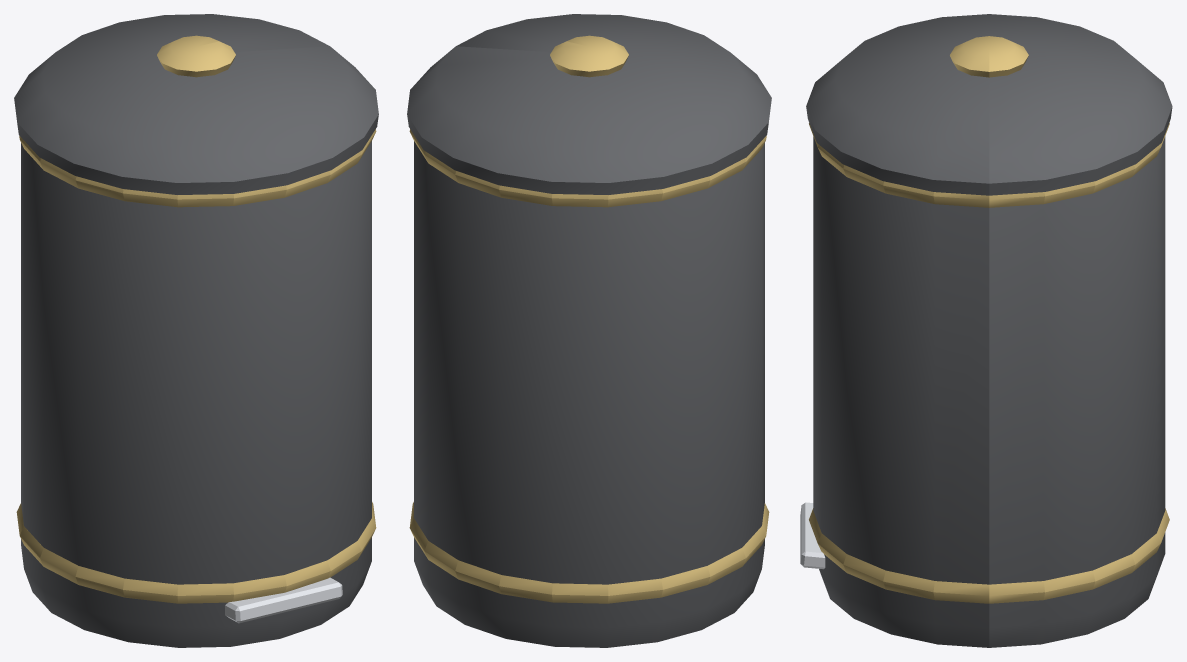
Rendered from escape-room-and-puzzle-venue-waste-bin-0a8b0d3a__35813.glb.
The picture shows the model from 3 angles, left to right: view 1: azimuth 30°, elevation 25°; view 2: azimuth 150°, elevation 25°; view 3: azimuth 270°, elevation 25°; orthographic projection.
Parts seen in each view (by area): view 1: waste-bin, lid/dark, lid/brass; view 2: waste-bin, lid/dark, lid/brass; view 3: waste-bin, lid/dark, lid/brass.
Boxes of the visible parts, <box> form: waste-bin: <box>16,129,376,647</box>; lid/dark: <box>14,14,378,194</box>; lid/brass: <box>157,35,235,77</box>; waste-bin: <box>409,129,769,647</box>; lid/dark: <box>407,14,771,194</box>; lid/brass: <box>550,35,628,77</box>; waste-bin: <box>800,123,1169,647</box>; lid/dark: <box>806,14,1172,195</box>; lid/brass: <box>950,36,1028,77</box>.
Bounding box in the file's own units: 0.416 × 0.664 × 0.4224.
